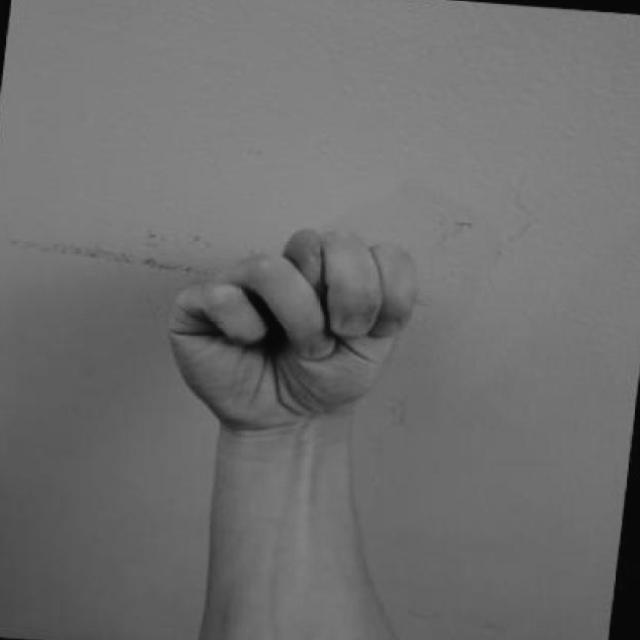N: (162, 179, 430, 461)
